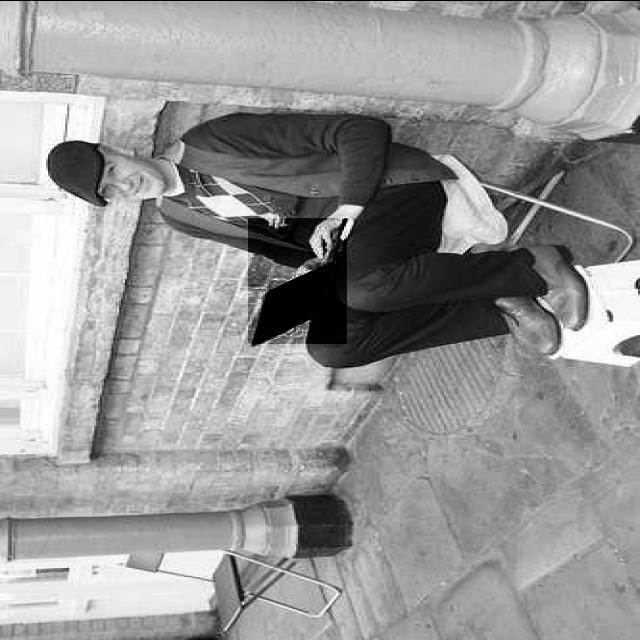-keyboard-: (248, 218, 347, 344)
